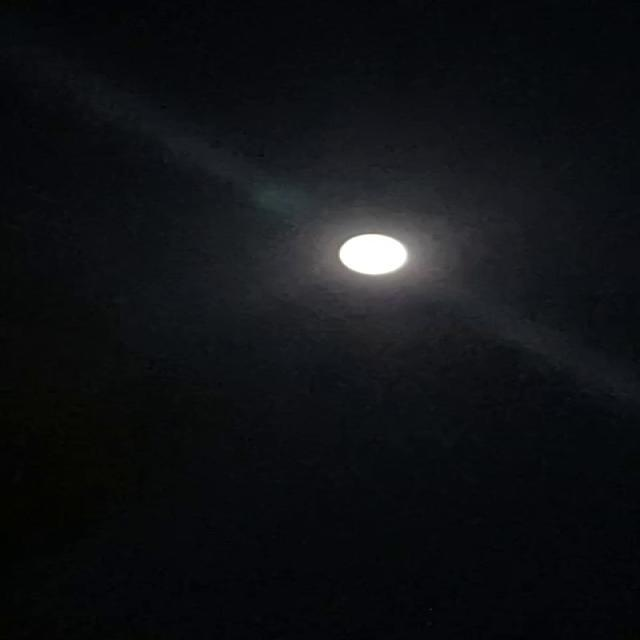moon: (318, 228, 434, 286)
